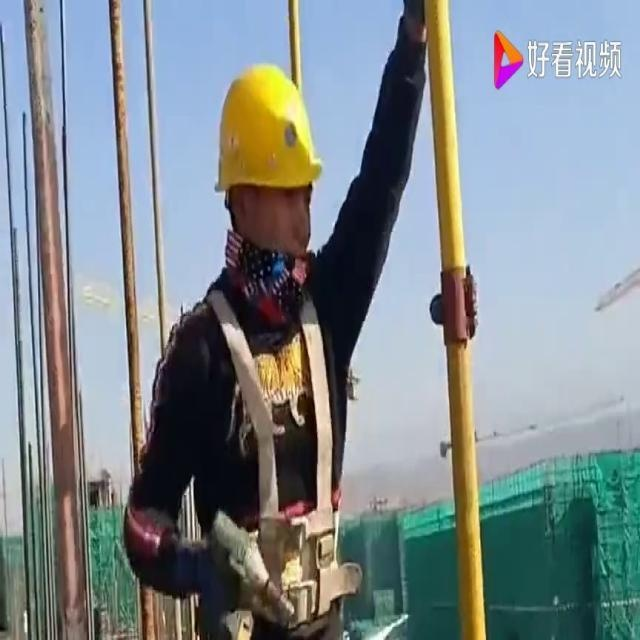Arnes_seguridad: (202, 266, 364, 639)
